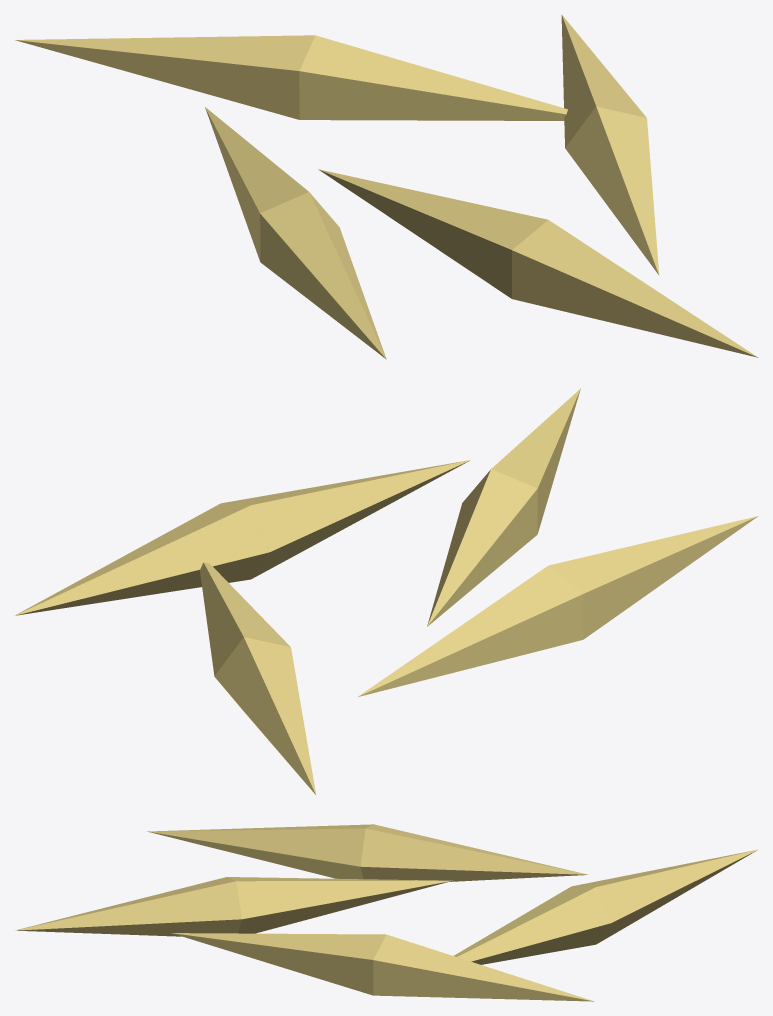
Rendered from seed.fbx.
3 views of the same model, one above another, from view 1: azimuth 30°, elevation 25°; view 2: azimuth 150°, elevation 25°; view 3: azimuth 270°, elevation 25° (orthographic). The views are drawn at different scales.
Visible parts, largest first — view 1: pPyramid6, pPyramid3, pPyramid5, pPyramid4; view 2: pPyramid4, pPyramid5, pPyramid3, pPyramid6; view 3: pPyramid3, pPyramid4, pPyramid5, pPyramid6.
Boxes of the visible parts, left/top/right/bottom form: pPyramid6: left=15, top=35, right=567, bottom=120; pPyramid3: left=318, top=169, right=758, bottom=357; pPyramid5: left=205, top=107, right=386, bottom=359; pPyramid4: left=561, top=14, right=659, bottom=275; pPyramid4: left=14, top=460, right=470, bottom=615; pPyramid5: left=358, top=516, right=758, bottom=696; pPyramid3: left=427, top=388, right=580, bottom=626; pPyramid6: left=200, top=562, right=316, bottom=795; pPyramid3: left=15, top=877, right=452, bottom=936; pPyramid4: left=171, top=933, right=594, bottom=1001; pPyramid5: left=147, top=824, right=588, bottom=881; pPyramid6: left=454, top=849, right=758, bottom=964.
Size of the model in its own units: 0.2784 by 0.0442 by 0.5117.
